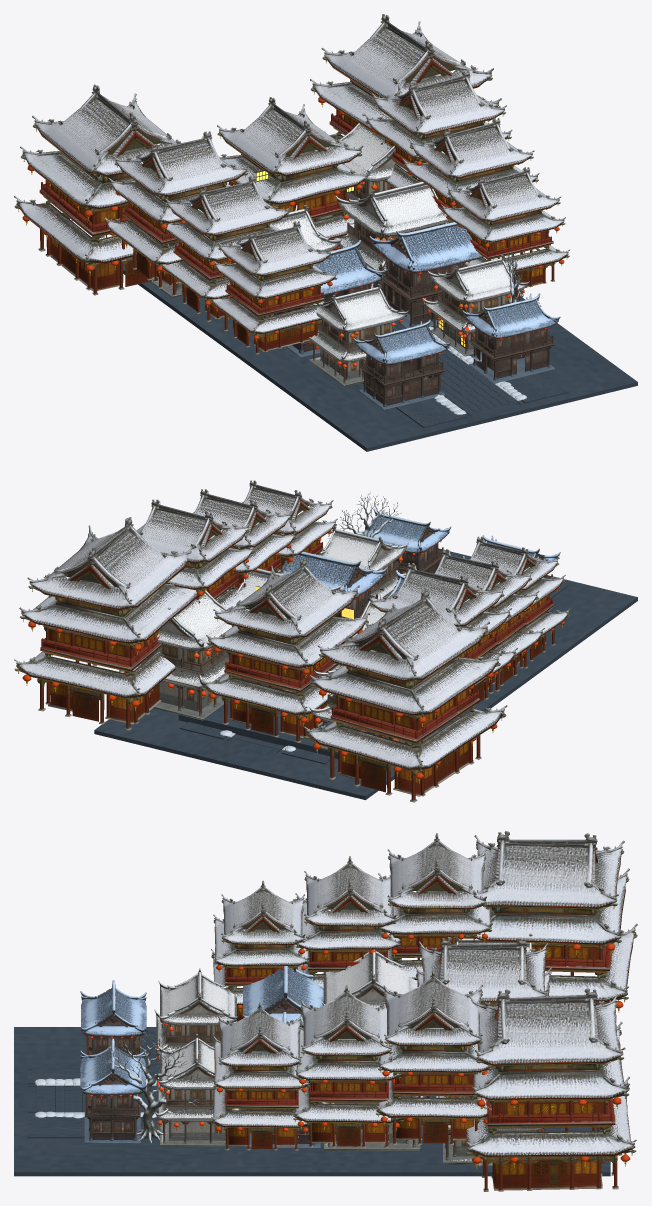
File: snow-street-v019.glb
3 views of the same model, one above another, from view 1: azimuth 30°, elevation 25°; view 2: azimuth 150°, elevation 25°; view 3: azimuth 270°, elevation 25° (orthographic). The views are drawn at different scales.
Visible parts, largest first — view 1: 01_街道与台基_冷灰石材, 远景塔楼_mesh, 雪阙主楼_mesh, 远层楼阁_mesh, 远层楼阁_mesh.002, 远景塔楼_mesh.001, 远层楼阁_mesh.001, 远层楼阁_mesh.003, 远层楼阁_mesh.005, 东街_02_mesh, 远层楼阁_mesh.004, 东街_00_mesh (+8 smaller); view 2: 远景塔楼_mesh, 远景塔楼_mesh.001, 雪阙主楼_mesh, 01_街道与台基_冷灰石材, 远层楼阁_mesh.005, 门楼侧翼_mesh.001, 远层楼阁_mesh.002, 远层楼阁_mesh.001, 远层楼阁_mesh.004, 远层楼阁_mesh, 远层楼阁_mesh.003, 东街_01_mesh (+6 smaller); view 3: 远景塔楼_mesh.001, 01_街道与台基_冷灰石材, 远景塔楼_mesh, 远层楼阁_mesh.005, 远层楼阁_mesh.004, 远层楼阁_mesh.003, 远层楼阁_mesh.002, 远层楼阁_mesh.001, 远层楼阁_mesh, 雪阙主楼_mesh, 东街_01_mesh, 东街_00_mesh (+9 smaller).
Part boxes in pixels (x1,y1,x2,y2): 01_街道与台基_冷灰石材: (123,218,637,451); 远景塔楼_mesh: (14,84,180,295); 雪阙主楼_mesh: (217,97,369,250); 远层楼阁_mesh: (210,221,338,354); 远层楼阁_mesh.002: (105,131,249,288); 远景塔楼_mesh.001: (310,14,501,140); 远层楼阁_mesh.001: (160,175,291,321); 远层楼阁_mesh.003: (440,167,569,287); 远层楼阁_mesh.005: (364,70,512,188); 东街_02_mesh: (369,222,483,328); 远层楼阁_mesh.004: (402,118,539,224); 东街_00_mesh: (462,293,560,383); 远景塔楼_mesh: (304,589,507,802); 远景塔楼_mesh.001: (14,517,204,730); 雪阙主楼_mesh: (201,559,369,742); 01_街道与台基_冷灰石材: (94,549,637,799); 远层楼阁_mesh.005: (124,499,255,610); 门楼侧翼_mesh.001: (123,590,249,720); 远层楼阁_mesh.002: (364,563,517,718); 远层楼阁_mesh.001: (434,549,544,693); 远层楼阁_mesh.004: (193,489,296,599); 远层楼阁_mesh: (470,536,570,668); 远层楼阁_mesh.003: (242,480,337,571); 东街_01_mesh: (320,526,408,599); 远景塔楼_mesh.001: (465,988,636,1191); 01_街道与台基_冷灰石材: (14,1027,610,1176); 远景塔楼_mesh: (464,831,637,1012); 远层楼阁_mesh.005: (375,970,492,1144); 远层楼阁_mesh.004: (293,985,403,1147); 远层楼阁_mesh.003: (211,1002,309,1150); 远层楼阁_mesh.002: (378,833,492,980); 远层楼阁_mesh.001: (295,856,401,987); 远层楼阁_mesh: (211,880,310,1021); 雪阙主楼_mesh: (414,937,552,1097); 东街_01_mesh: (155,1034,240,1146); 东街_00_mesh: (80,1038,146,1143).
Size of the model in its own units: 59.22 by 23.74 by 69.01.
Materials: 13 (7 with a texture image).
